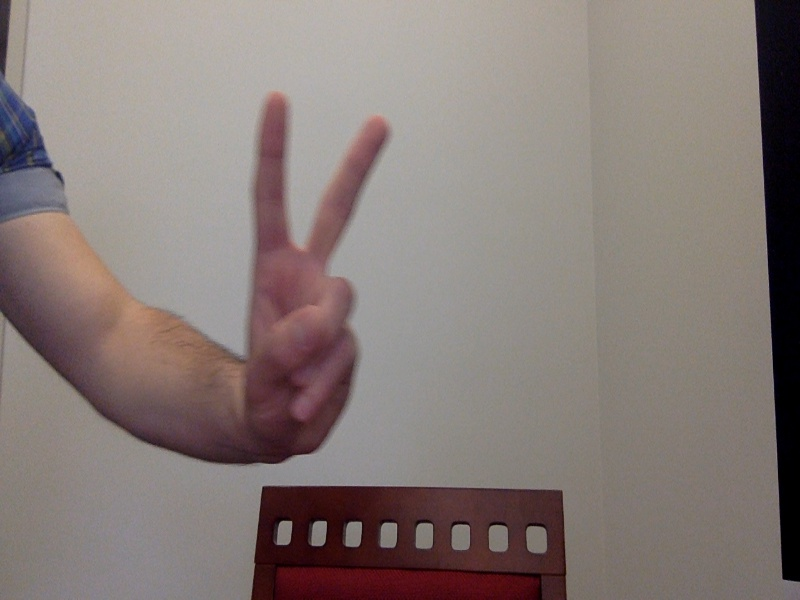2-hand: (244, 91, 392, 451)
